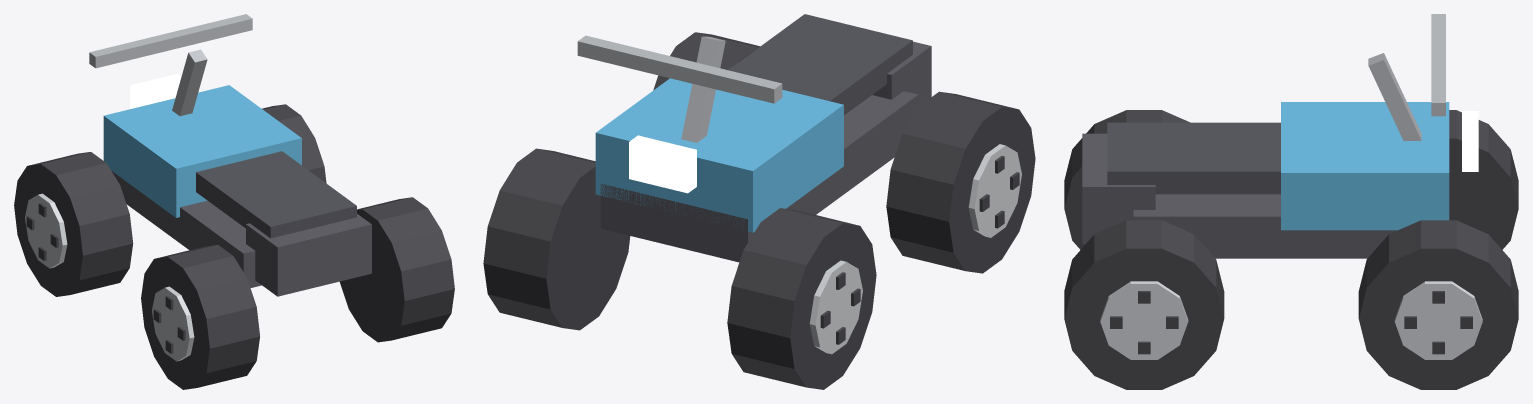
The model's file is quad.glb.
The picture shows the model from 3 angles, left to right: view 1: azimuth 30°, elevation 25°; view 2: azimuth 150°, elevation 25°; view 3: azimuth 270°, elevation 25°; orthographic projection. The views are drawn at different scales.
Parts seen in each view (by area): view 1: Body, WheelRL, WheelFL, WheelRR, WheelFR; view 2: Body, WheelFL, WheelRL, WheelFR, WheelRR; view 3: Body, WheelFR, WheelRR, WheelFL, WheelRL.
Part boxes in pixels (x1,y1,x2,y2): Body: [89, 14, 371, 296]; WheelRL: [141, 244, 259, 389]; WheelFL: [14, 152, 133, 296]; WheelRR: [340, 197, 454, 342]; WheelFR: [262, 104, 326, 183]; Body: [577, 14, 931, 262]; WheelFL: [727, 208, 876, 389]; WheelRL: [886, 91, 1035, 273]; WheelFR: [483, 148, 630, 330]; WheelRR: [653, 32, 759, 90]; Body: [1082, 14, 1478, 258]; WheelFR: [1358, 220, 1518, 389]; WheelRR: [1064, 220, 1224, 389]; WheelFL: [1449, 110, 1518, 249]; WheelRL: [1064, 110, 1190, 249].
Size of the model in its own units: 1.65 by 1.39 by 2.16.
